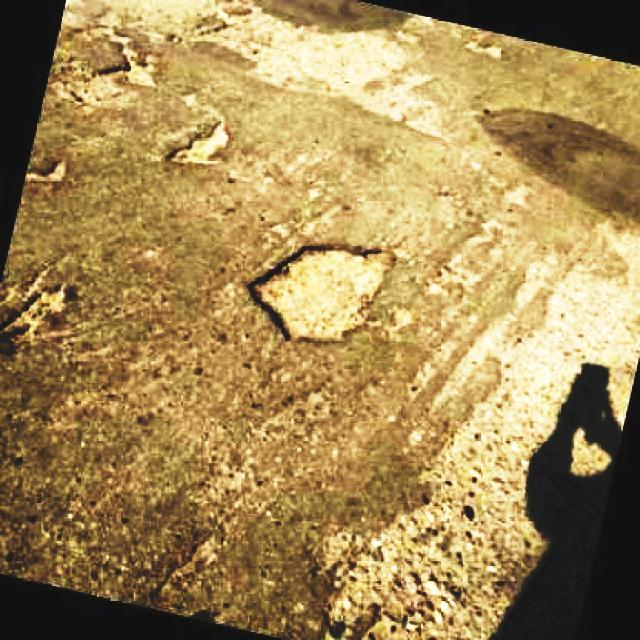pothole: (209, 0, 449, 140), (316, 489, 502, 640), (245, 242, 388, 343), (43, 15, 169, 106), (0, 269, 69, 343), (171, 123, 231, 166)
